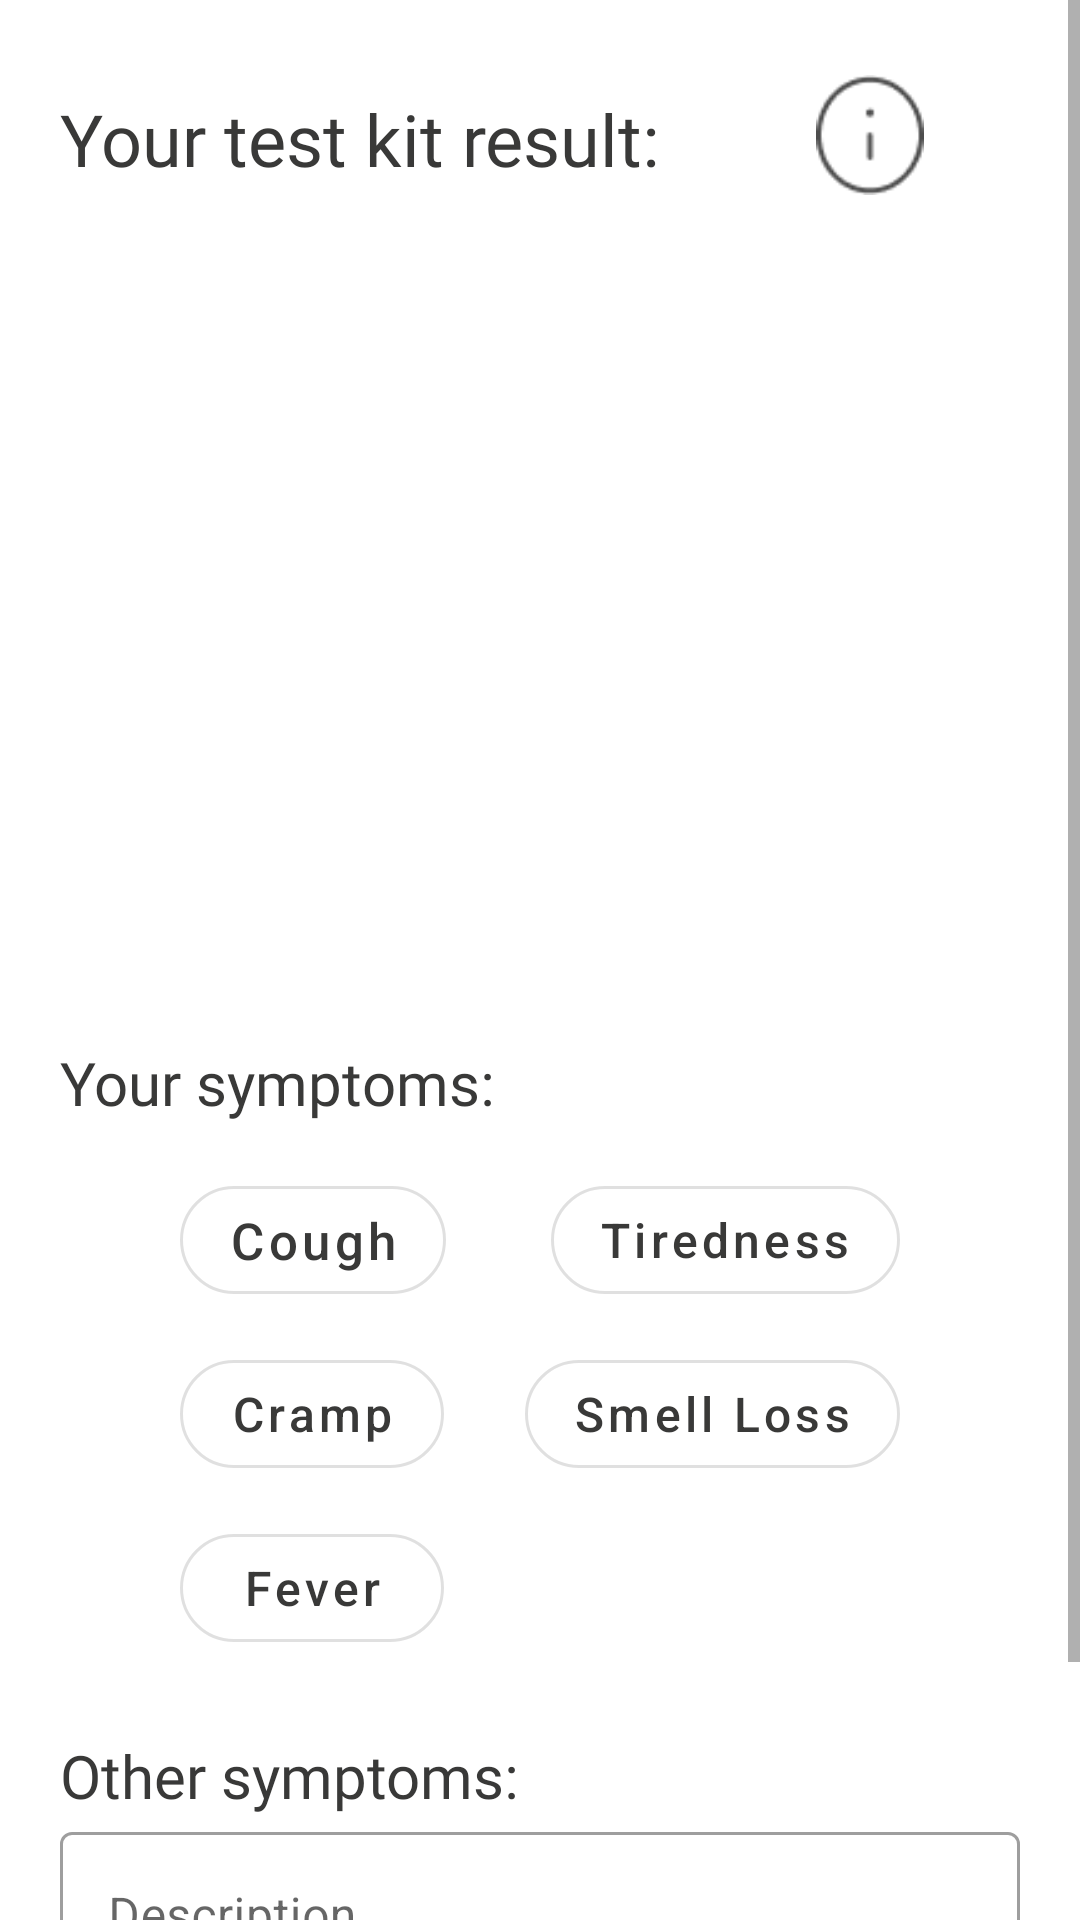

Icons on this 1080 x 1920 Android screen, each with the point to tap as (x=x, y=y):
info: (x=870, y=135)
